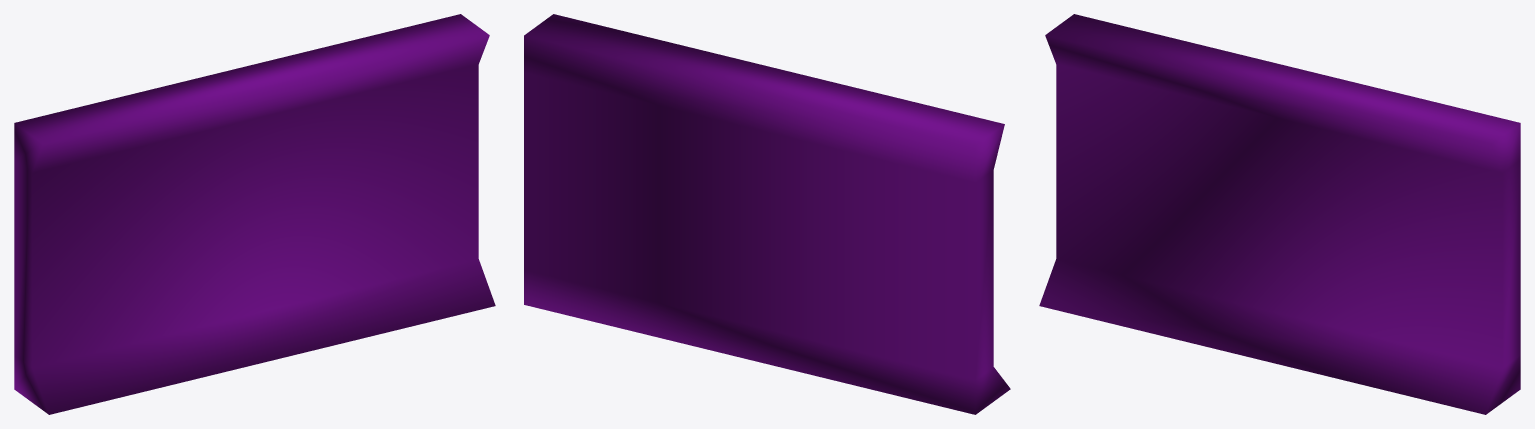
The model's file is PanelCentral.FBX.
The picture shows the model from 3 angles, left to right: view 1: azimuth 30°, elevation 25°; view 2: azimuth 150°, elevation 25°; view 3: azimuth 330°, elevation 25°; orthographic projection.
Parts seen in each view (by area): view 1: PanelCentral_LP; view 2: PanelCentral_LP; view 3: PanelCentral_LP.
Boxes of the visible parts, <box> form: PanelCentral_LP: <box>14,14,495,414</box>; PanelCentral_LP: <box>524,14,1010,414</box>; PanelCentral_LP: <box>1039,14,1520,414</box>.
Bounding box in the file's own units: 2.47 × 1.41 × 0.3345.
